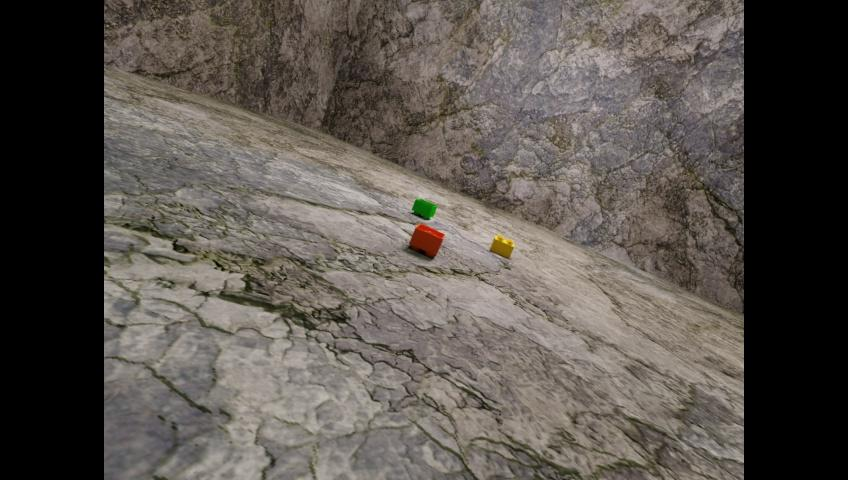2x2_green: (411, 198, 436, 219)
2x2_orange: (409, 223, 444, 256)
2x2_yellow: (490, 234, 514, 258)
